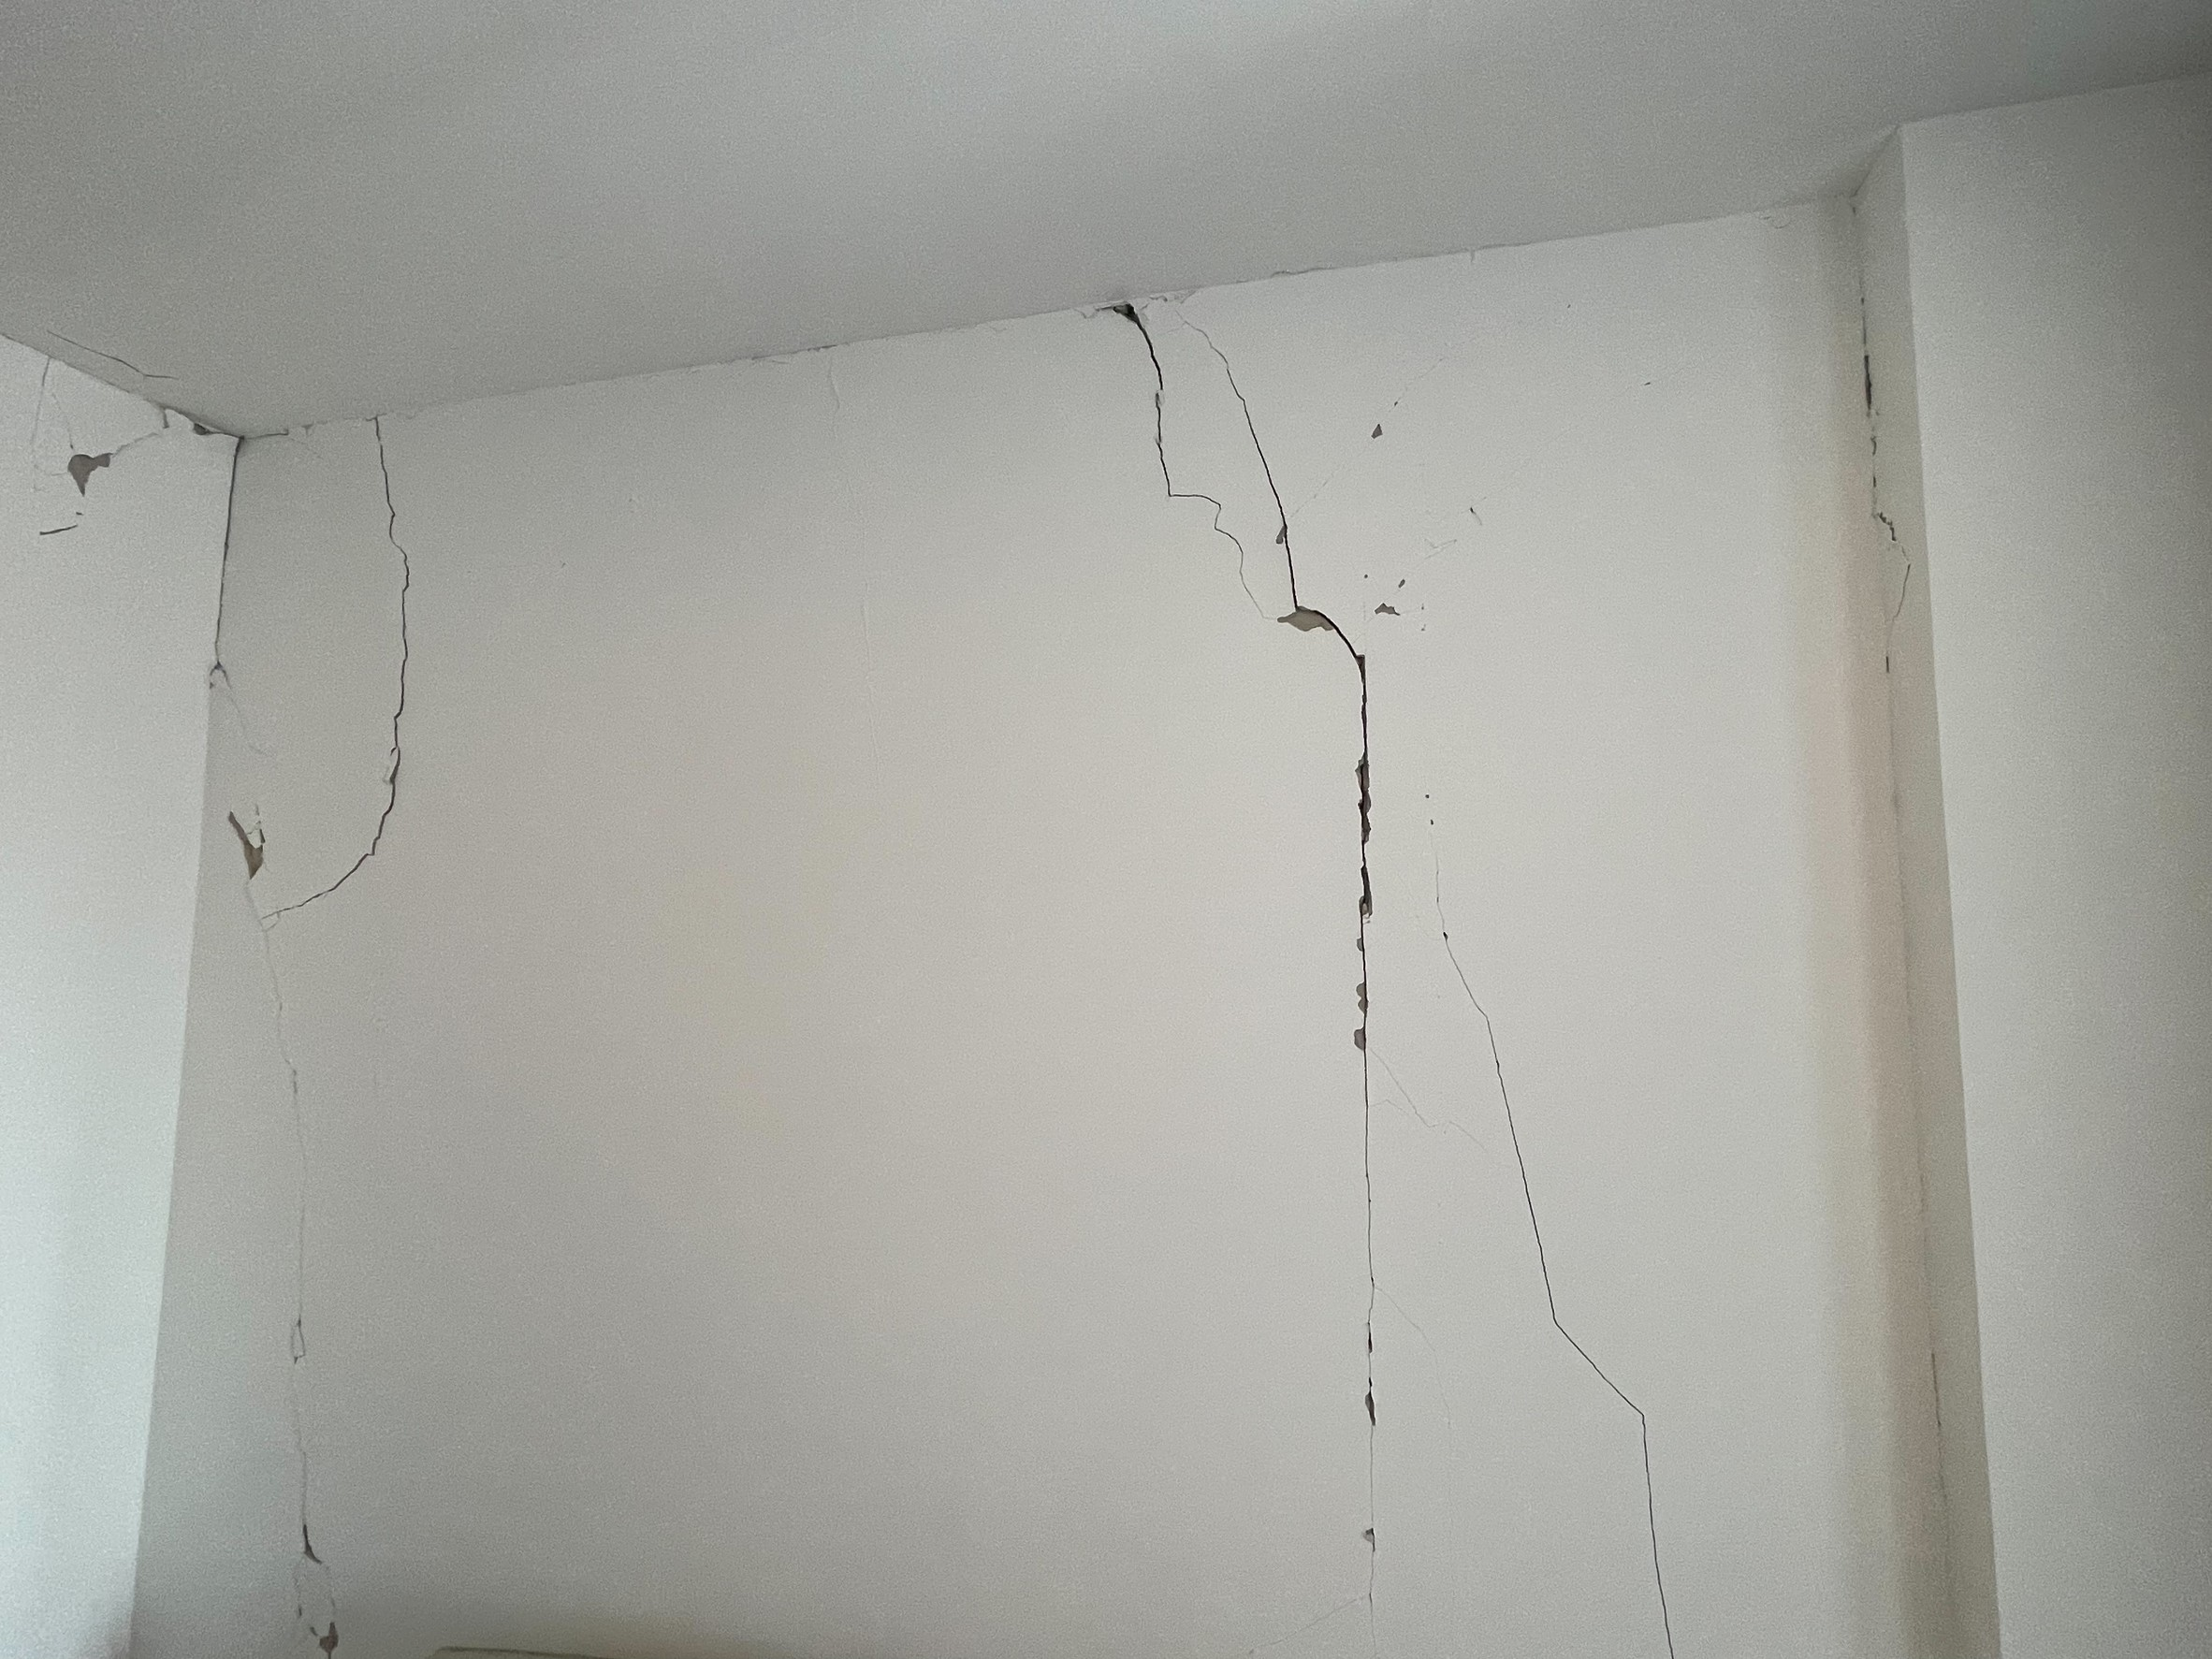Medium: (1096, 355, 1599, 1371)
